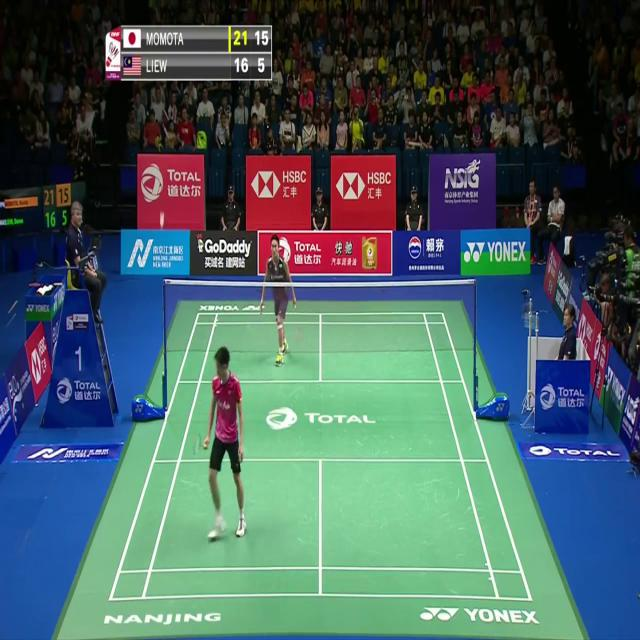Shuttlecock: (158, 213, 165, 224)
